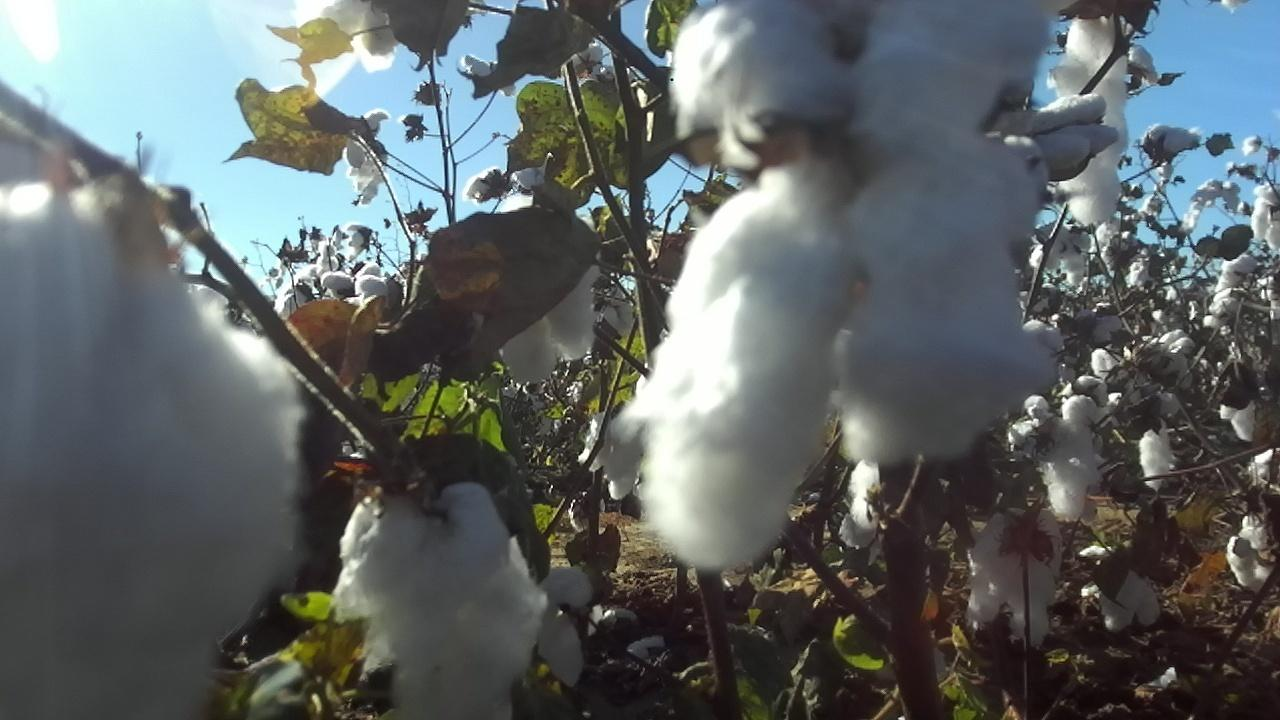cotton_ready: (633, 122, 1039, 570), (0, 181, 304, 720), (672, 0, 1049, 169), (336, 479, 545, 720), (500, 195, 600, 381), (1048, 8, 1132, 222), (962, 510, 1064, 644), (511, 539, 592, 680), (1006, 89, 1120, 179), (1041, 395, 1100, 519), (576, 409, 657, 499), (303, 0, 399, 72), (1097, 564, 1165, 634), (837, 459, 885, 549), (1029, 224, 1095, 283), (1226, 517, 1275, 587), (1021, 320, 1060, 393)
